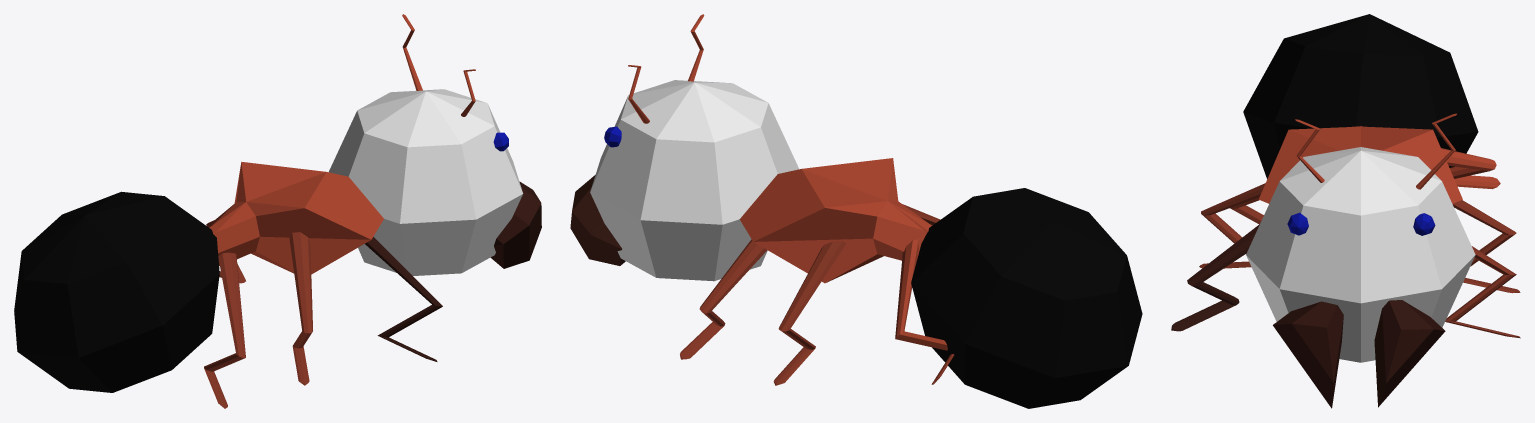
Rendered from Hormiga.fbx.
The picture shows the model from 3 angles, left to right: view 1: azimuth 30°, elevation 25°; view 2: azimuth 150°, elevation 25°; view 3: azimuth 270°, elevation 25°; orthographic projection. The views are drawn at different scales.
Parts seen in each view (by area): view 1: Sphere.004, Sphere, Sphere.003, Sphere.005, Cylinder.006, Cylinder.005, Cylinder.007; view 2: Sphere.004, Sphere, Sphere.003, Sphere.007, Cylinder.003, Cylinder.002, Cylinder.004; view 3: Sphere, Sphere.004, Sphere.003, Sphere.005, Sphere.007, Cylinder.007, Cylinder.004, Cylinder.002, Cylinder.006, Cylinder.003, Cylinder, Sphere.001 (+3 smaller).
Boxes of the visible parts, x1=… form: Sphere.004: x1=14, y1=191, x2=219, y2=392; Sphere: x1=329, y1=89, x2=523, y2=275; Sphere.003: x1=207, y1=161, x2=383, y2=274; Sphere.005: x1=490, y1=181, x2=541, y2=268; Cylinder.006: x1=289, y1=232, x2=312, y2=385; Cylinder.005: x1=204, y1=252, x2=245, y2=408; Cylinder.007: x1=365, y1=237, x2=442, y2=361; Sphere.004: x1=911, y1=188, x2=1142, y2=408; Sphere: x1=590, y1=80, x2=798, y2=281; Sphere.003: x1=739, y1=158, x2=931, y2=283; Sphere.007: x1=570, y1=175, x2=625, y2=265; Cylinder.003: x1=773, y1=241, x2=846, y2=385; Cylinder.002: x1=680, y1=239, x2=767, y2=359; Cylinder.004: x1=895, y1=239, x2=954, y2=384; Sphere: x1=1246, y1=147, x2=1475, y2=362; Sphere.004: x1=1243, y1=14, x2=1478, y2=178; Sphere.003: x1=1258, y1=126, x2=1462, y2=203; Sphere.005: x1=1273, y1=301, x2=1343, y2=408; Sphere.007: x1=1374, y1=300, x2=1445, y2=407; Cylinder.007: x1=1171, y1=224, x2=1259, y2=331; Cylinder.004: x1=1441, y1=148, x2=1500, y2=189; Cylinder.002: x1=1445, y1=246, x2=1520, y2=338; Cylinder.006: x1=1199, y1=183, x2=1265, y2=268; Cylinder.003: x1=1452, y1=200, x2=1520, y2=293; Cylinder: x1=1416, y1=113, x2=1456, y2=189; Sphere.001: x1=1413, y1=213, x2=1435, y2=235.
Size of the model in its own units: 141 by 66.95 by 73.19.
